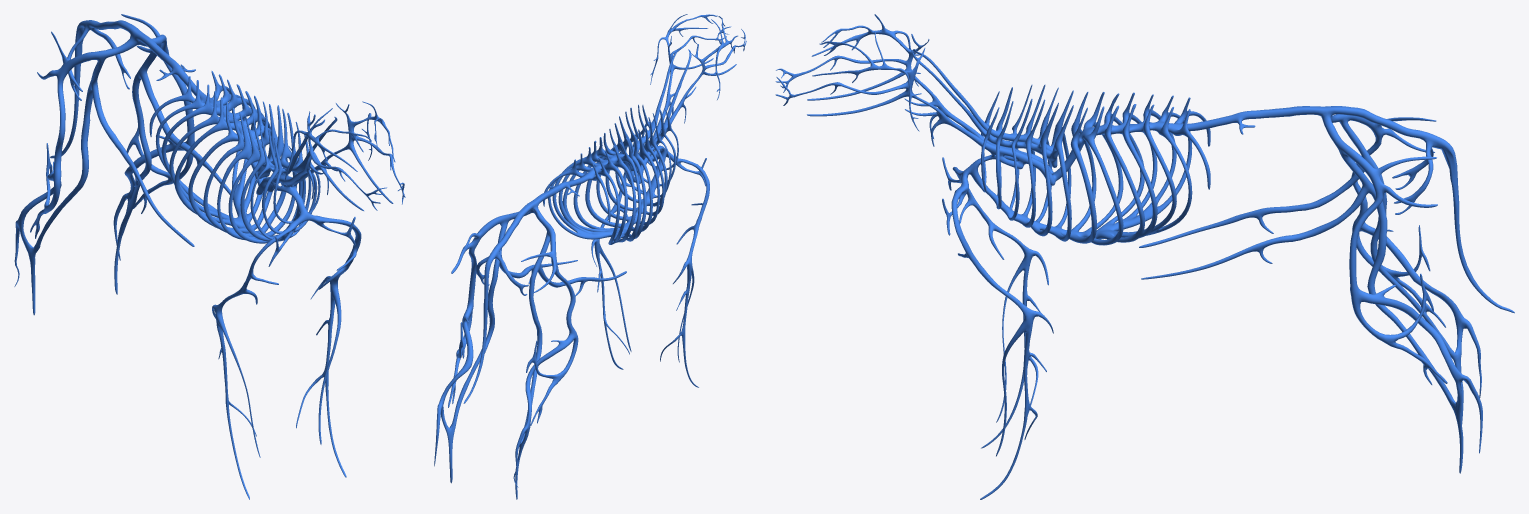
File: Blue Arteries.glb
The picture shows the model from 3 angles, left to right: view 1: azimuth 30°, elevation 25°; view 2: azimuth 150°, elevation 25°; view 3: azimuth 270°, elevation 25°; orthographic projection. The views are drawn at different scales.
Parts seen in each view (by area): view 1: Vascular_System_Complete, Forelimb_Radial_Ulnar_Median; view 2: Vascular_System_Complete; view 3: Vascular_System_Complete.
Boxes of the visible parts, <box> form: Vascular_System_Complete: <box>14,14,405,499</box>; Forelimb_Radial_Ulnar_Median: <box>318,295,341,444</box>; Vascular_System_Complete: <box>434,14,746,499</box>; Vascular_System_Complete: <box>775,14,1514,499</box>.
Size of the model in its own units: 5.99 by 17.27 by 25.55.
